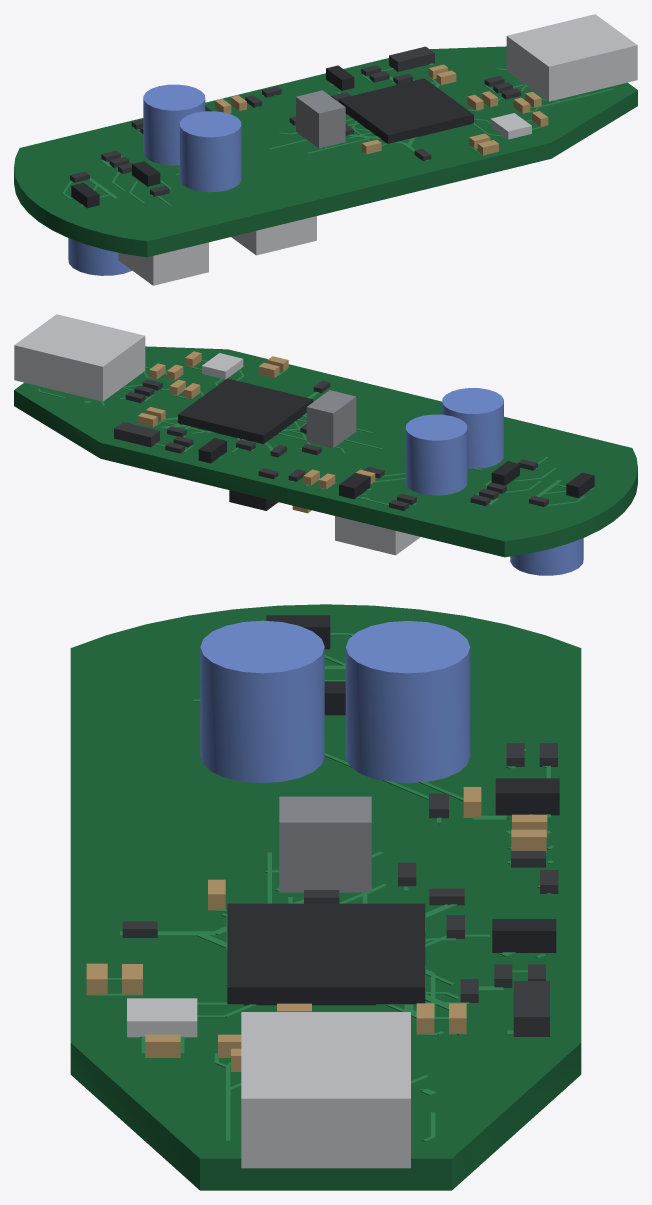
The model's file is optical-probe-board-mounted.glb.
3 views of the same model, one above another, from view 1: azimuth 30°, elevation 25°; view 2: azimuth 150°, elevation 25°; view 3: azimuth 270°, elevation 25° (orthographic). The views are drawn at different scales.
Size of the model in its own units: 0.0606 by 0.0141 by 0.0232.
